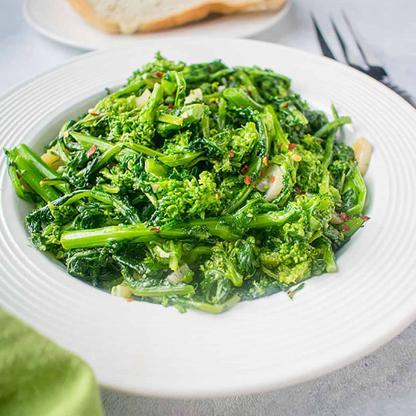broccoli: (0, 48, 381, 316)
